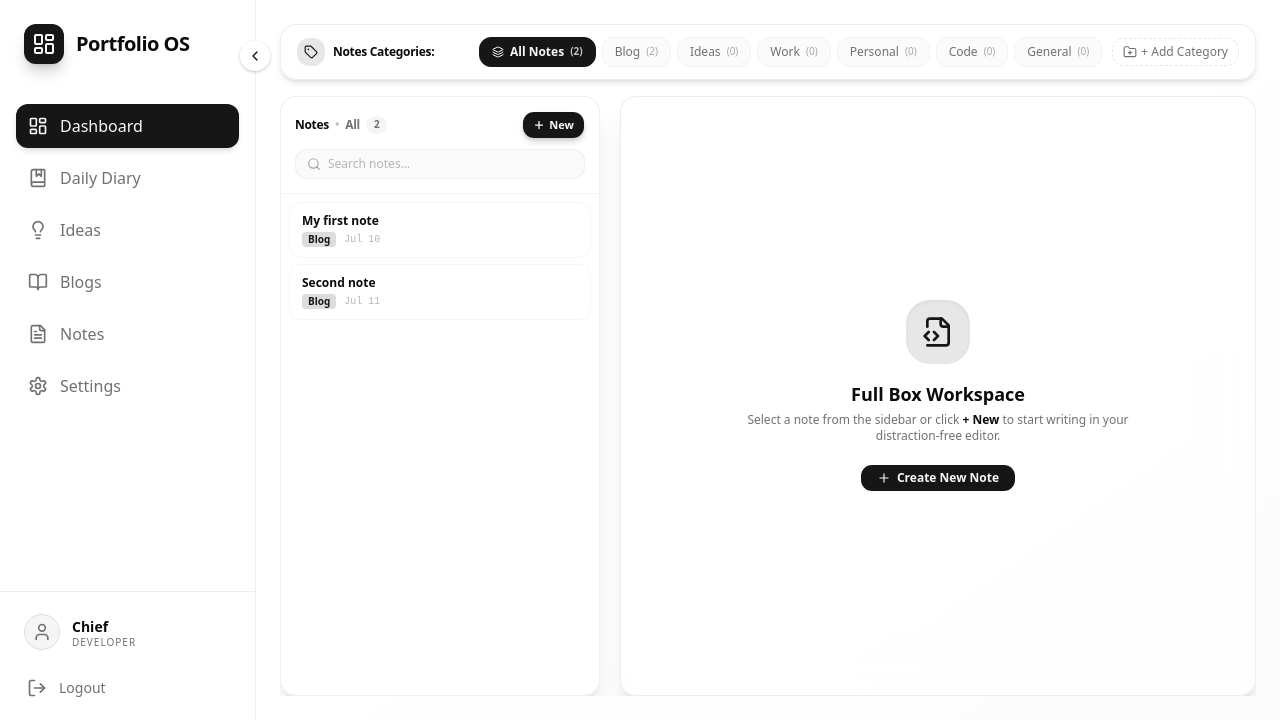
Scenario: NotesPage › clicking + button shows the editor
Find a + button (there are multiple for mobile/desktop)
What coordinates should you click on to do the following:
click the button with aria-label "New note"
I would click on:
 (554, 125)
Its box is [522, 111, 585, 139].
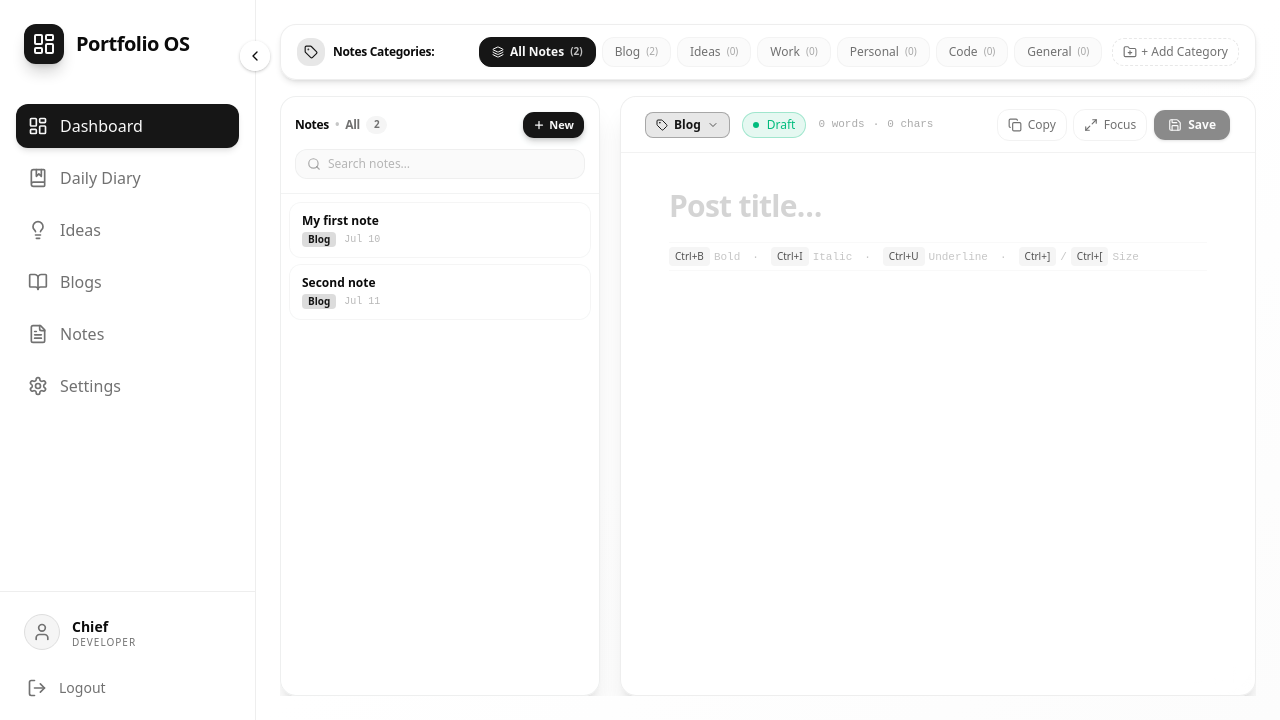
Result: the field with placeholder "Post title…" is shown at [669, 185, 1207, 226]
